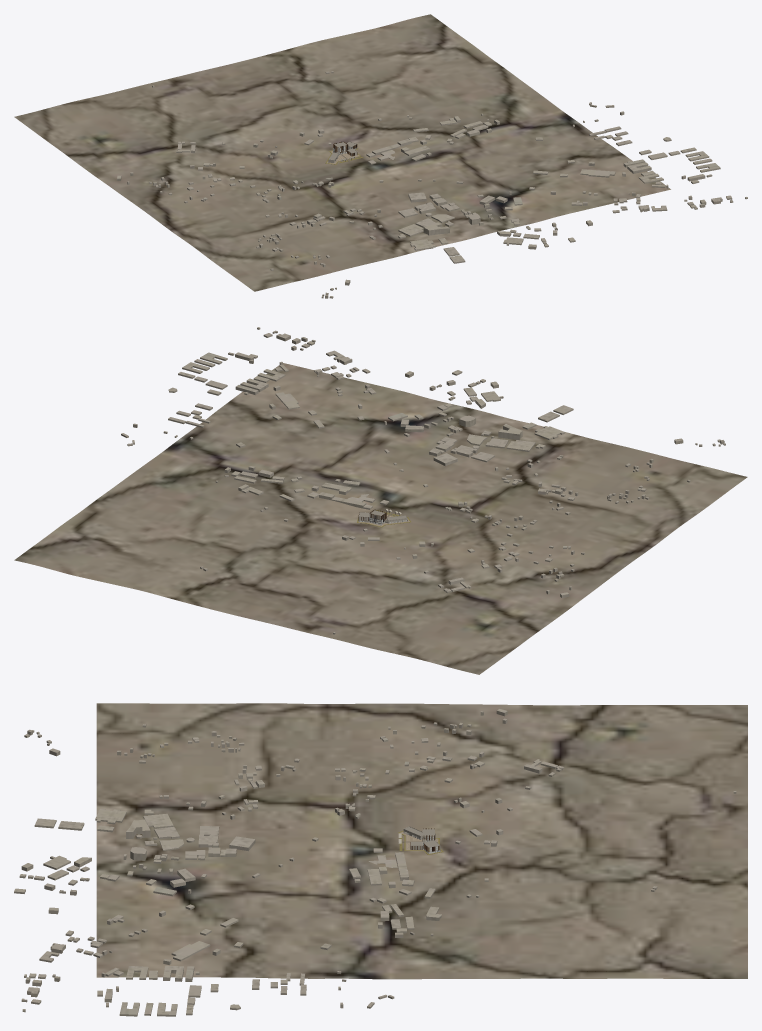
The model's file is modelo.glb.
3 renders of one model, top to bottom at view 1: azimuth 30°, elevation 25°; view 2: azimuth 150°, elevation 25°; view 3: azimuth 270°, elevation 25°, orthographic. The views are drawn at different scales.
Parts seen in each view (by area): view 1: Terreno, Edificios vecinos; view 2: Terreno, Edificios vecinos; view 3: Terreno, Edificios vecinos.
Part boxes in pixels (bbox=[...]): Terreno: bbox=[14, 14, 670, 291]; Edificios vecinos: bbox=[117, 71, 747, 298]; Terreno: bbox=[14, 363, 747, 674]; Edificios vecinos: bbox=[121, 327, 725, 634]; Terreno: bbox=[96, 703, 747, 979]; Edificios vecinos: bbox=[14, 709, 736, 1016].
Size of what is drawn, in the model's own units: 1261 by 21.25 by 1240.
Materials: 13 (8 with a texture image).
